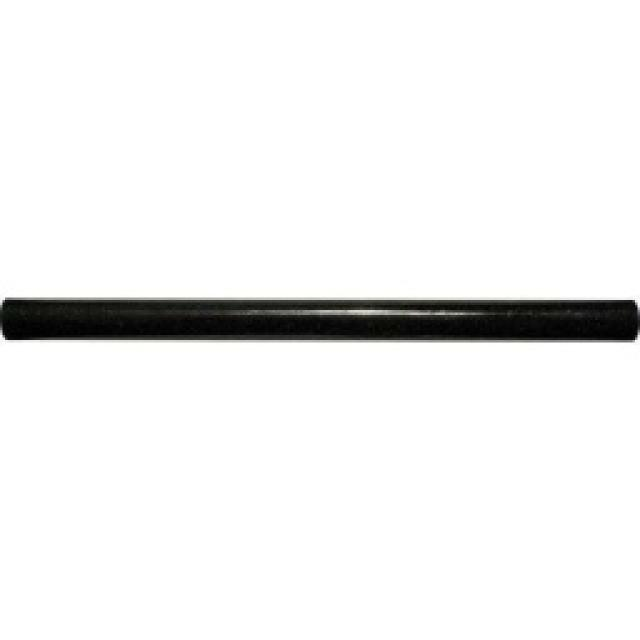pencil: (0, 292, 638, 348)
